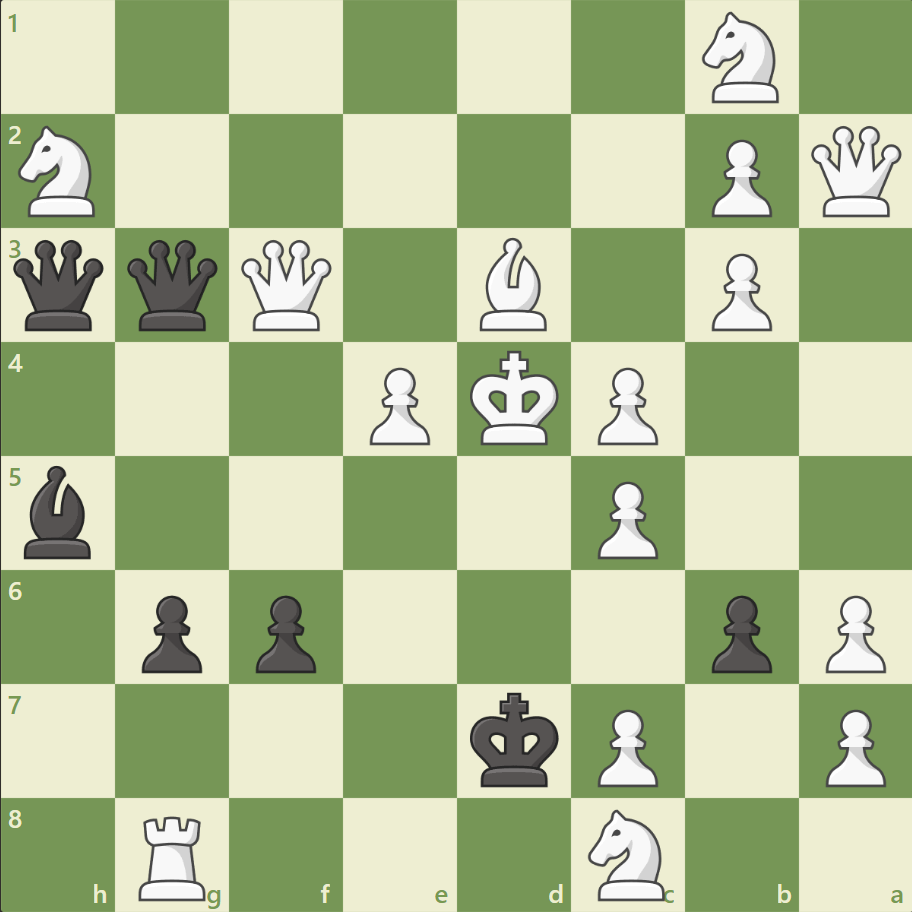B: (471, 233, 555, 336)
K: (465, 344, 565, 452)
N: (692, 7, 789, 110), (579, 802, 676, 904), (11, 121, 108, 223)
P: (701, 246, 776, 337), (701, 132, 776, 223), (815, 700, 889, 791), (588, 700, 662, 791), (815, 586, 889, 677), (588, 473, 662, 564), (588, 359, 662, 450), (361, 359, 435, 450)
Q: (805, 122, 904, 222), (237, 236, 336, 335)
R: (133, 806, 215, 904)
b: (17, 460, 101, 563)
k: (465, 685, 565, 793)
p: (701, 586, 776, 677), (247, 586, 322, 677), (133, 586, 208, 677)
q: (124, 236, 223, 335), (10, 236, 109, 335)
